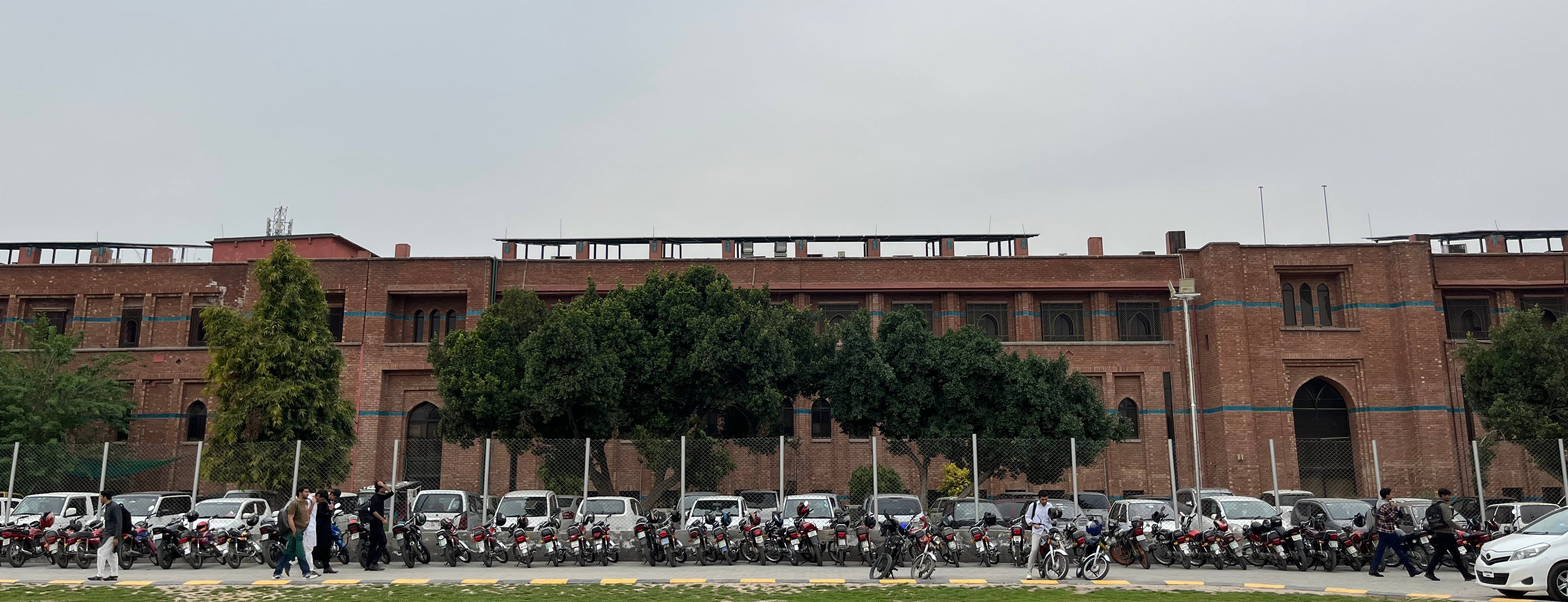Block D: (2, 212, 1568, 504)
